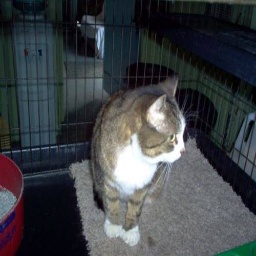cat: (89, 70, 186, 244)
